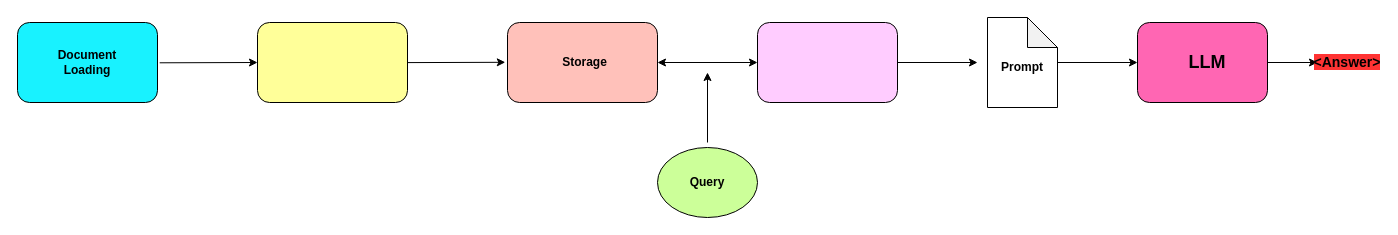
This 1398x235 diagram has some shape labels left out. The centre of each missing label's shape, as x and y in pixels:
"Retrieval" goes at (827,62).
"Splitting" goes at (332,62).
